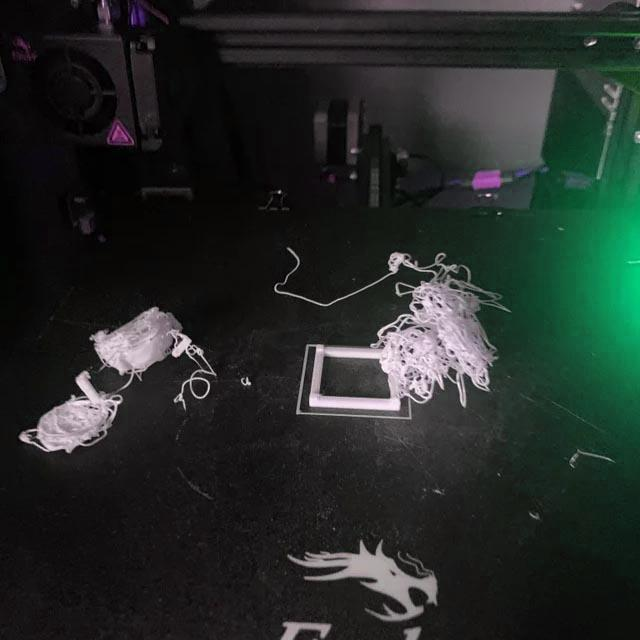spaghetti: (373, 253, 511, 409), (91, 305, 171, 393), (21, 394, 125, 455), (276, 247, 374, 311), (168, 329, 218, 412)
